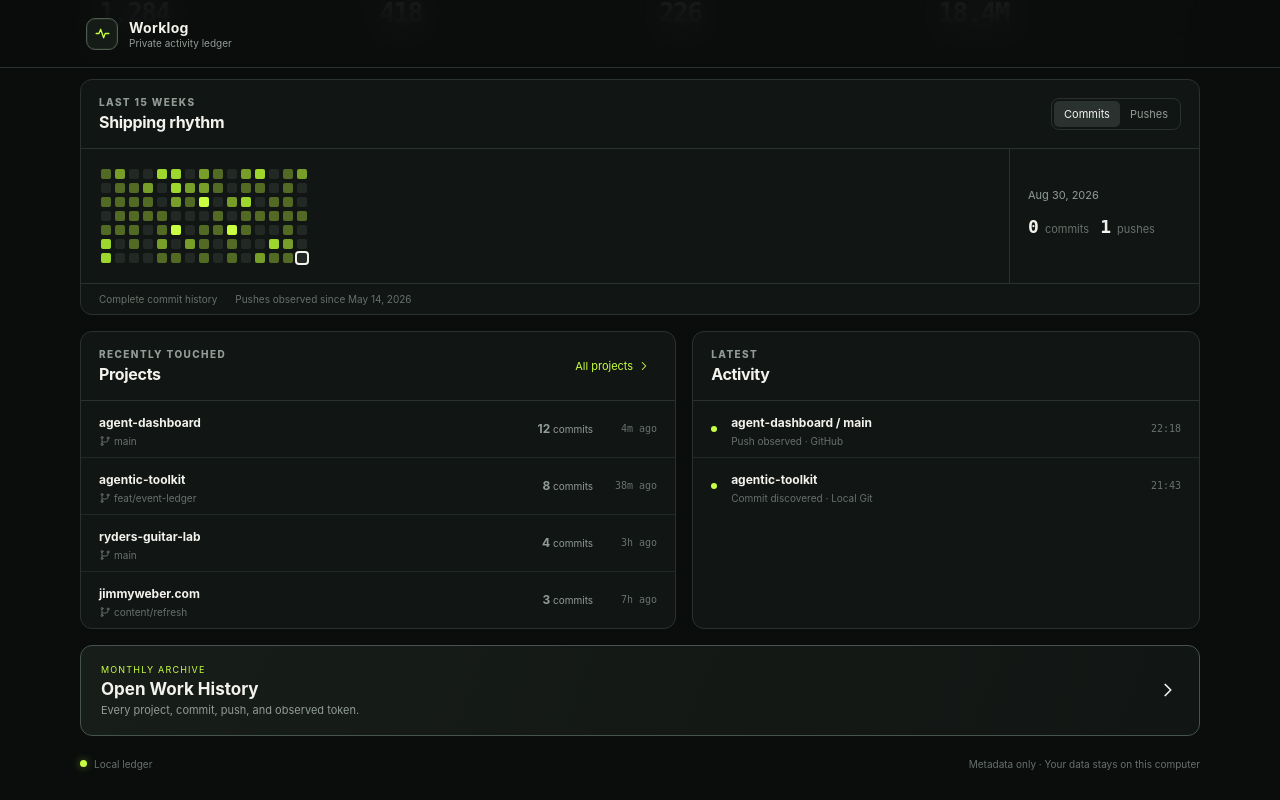
Test: compact work ledger › navigates months and requests that complete month
(page scrolled)
Click the button "Open Work History" at (153, 669), box [80,645,1200,736]
(page scrolled)
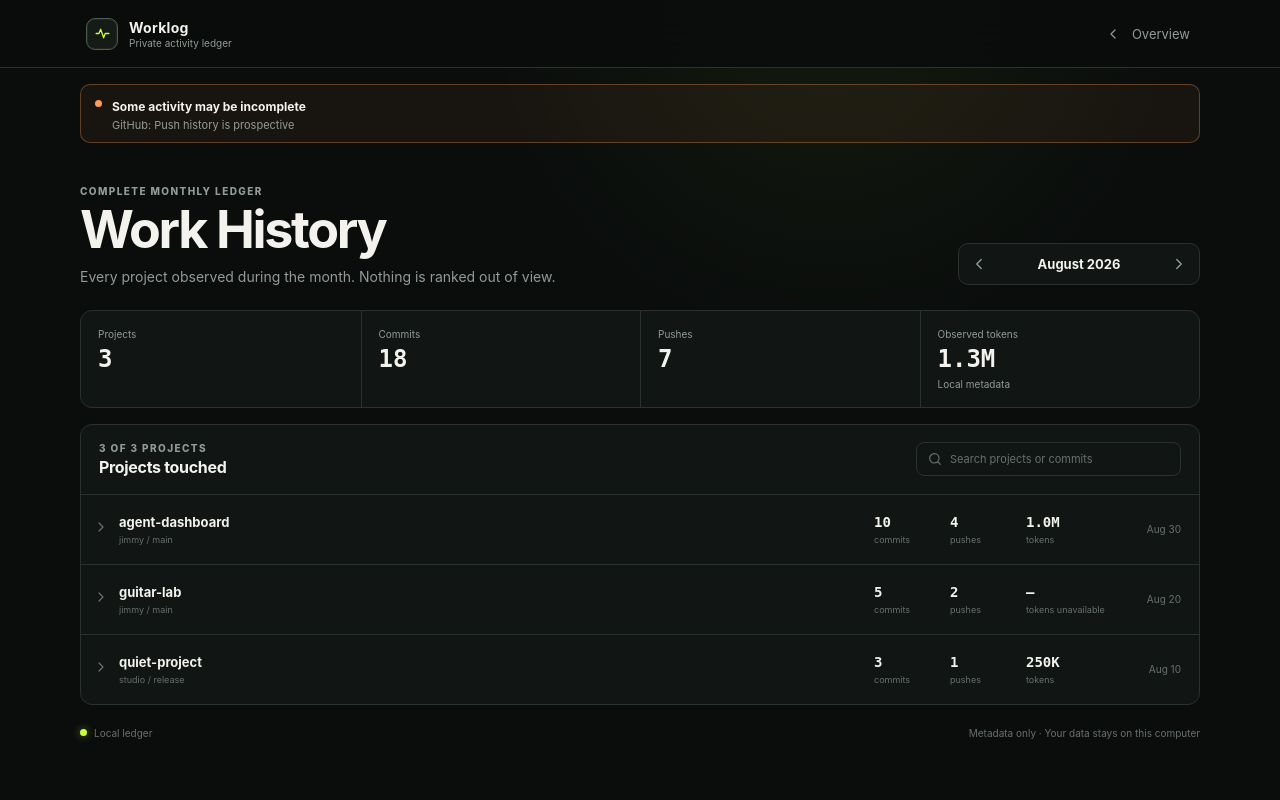
Expected: the text "August 2026" is shown, [1038,256,1120,272]
Click the button named "Previous month" at (979, 264), box [959,244,999,284]
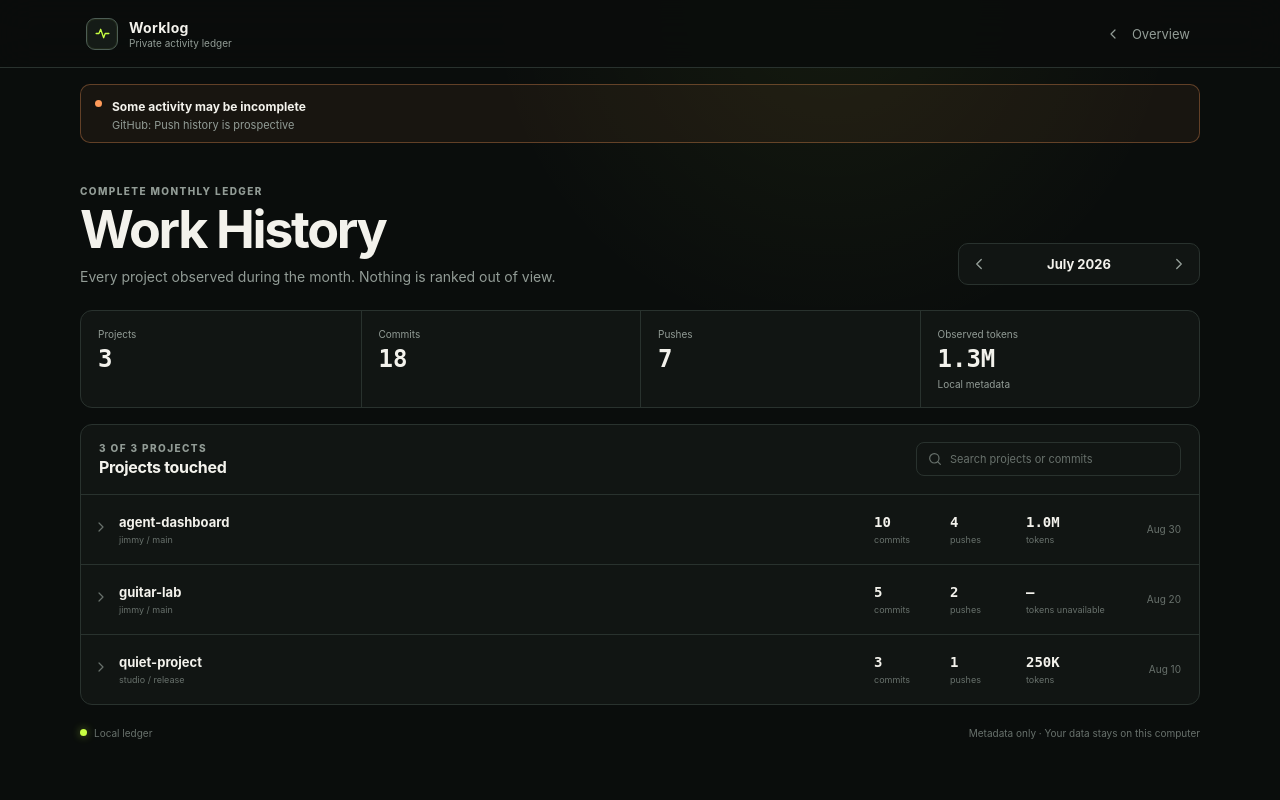
Expected: the text "July 2026" is shown, [1047,256,1111,272]
